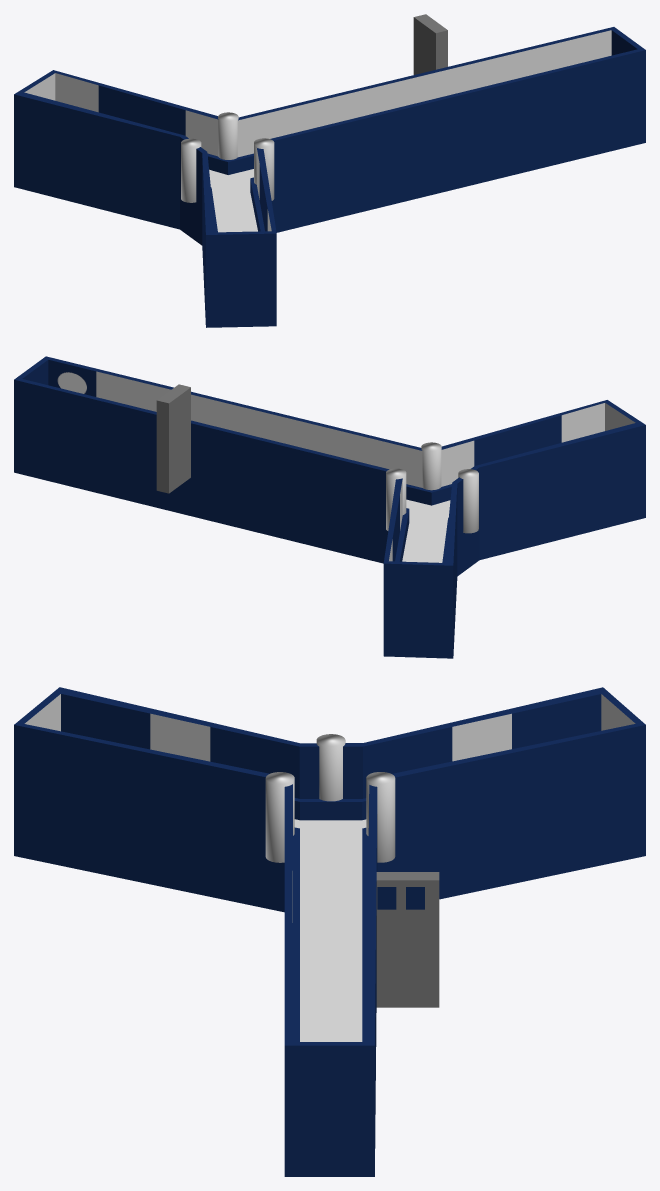
The model's file is Y(已拆分UV).fbx.
3 renders of one model, top to bottom at view 1: azimuth 30°, elevation 25°; view 2: azimuth 150°, elevation 25°; view 3: azimuth 270°, elevation 25°, orthographic. The views are drawn at different scales.
Visible parts, largest first — view 1: Cube.063, Cube.065, Cube.071, Cube.064, Cylinder.017, Cylinder.015, Cylinder.016; view 2: Cube.063, Cube.071, Cube.065, Cube.064, Cylinder.017, Cylinder.016, Cylinder.015; view 3: Cube.063, Cube.065, Cube.071, Cube.064, Cylinder.016, Cylinder.015, Cylinder.017.
Boxes of the visible parts, bbox=[...] form: Cube.063: bbox=[14, 27, 645, 327]; Cube.065: bbox=[209, 169, 257, 232]; Cube.071: bbox=[413, 14, 447, 74]; Cube.064: bbox=[207, 153, 264, 232]; Cylinder.017: bbox=[181, 138, 201, 202]; Cylinder.015: bbox=[218, 112, 238, 159]; Cylinder.016: bbox=[254, 138, 274, 200]; Cube.063: bbox=[14, 356, 645, 658]; Cube.071: bbox=[156, 384, 190, 493]; Cube.065: bbox=[402, 499, 450, 562]; Cube.064: bbox=[395, 484, 451, 562]; Cylinder.017: bbox=[458, 469, 478, 533]; Cylinder.016: bbox=[421, 442, 441, 490]; Cylinder.015: bbox=[386, 468, 406, 530]; Cube.063: bbox=[14, 687, 645, 1176]; Cube.065: bbox=[294, 819, 366, 1041]; Cube.071: bbox=[376, 872, 439, 1007]; Cube.064: bbox=[292, 798, 368, 1041]; Cylinder.016: bbox=[265, 772, 294, 862]; Cylinder.015: bbox=[366, 772, 395, 862]; Cylinder.017: bbox=[316, 734, 345, 801].
Bounding box in the file's own units: 2721 × 646 × 2027.
